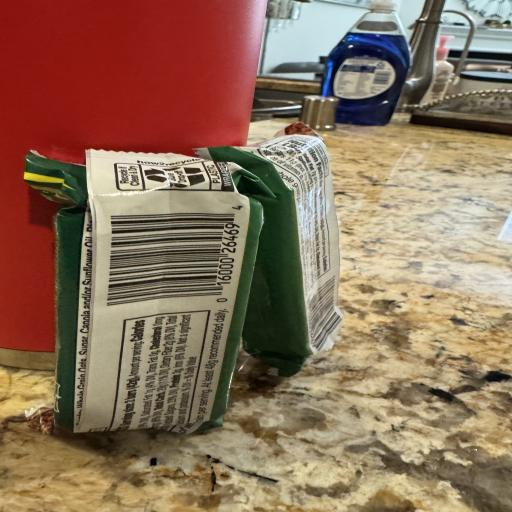granola: (25, 150, 273, 432), (198, 123, 341, 375)
